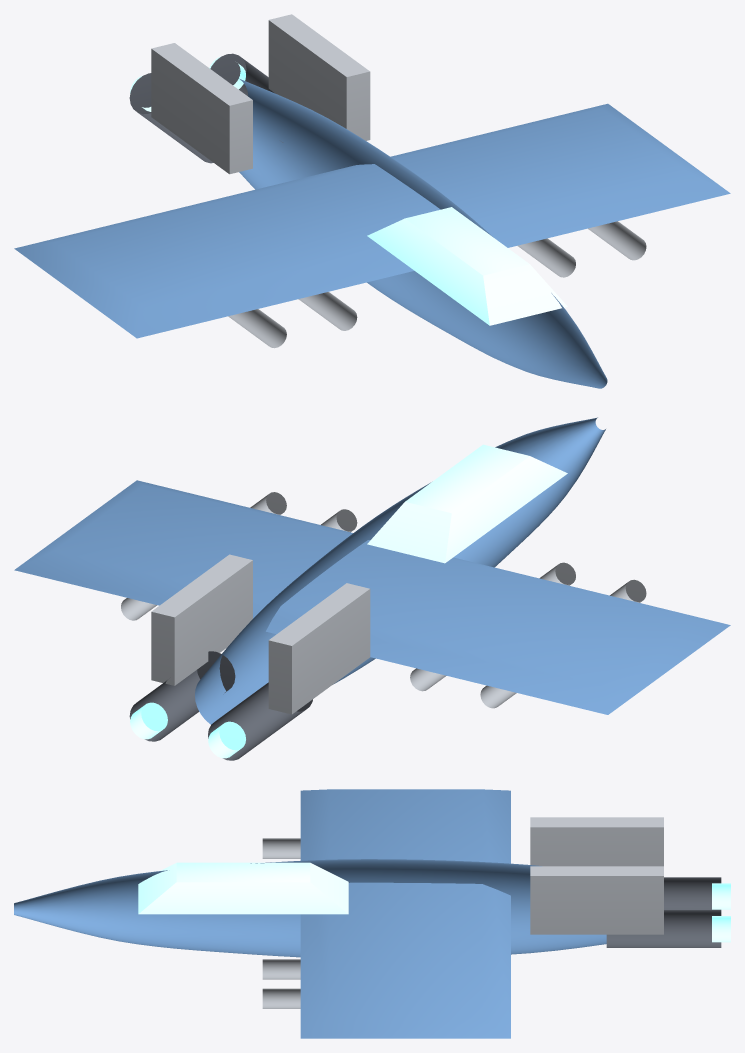
The model's file is orca.glb.
3 renders of one model, top to bottom at view 1: azimuth 30°, elevation 25°; view 2: azimuth 150°, elevation 25°; view 3: azimuth 270°, elevation 25°, orthographic. The views are drawn at different scales.
Parts seen in each view (by area): view 1: Hull; view 2: Hull; view 3: Hull.
Part boxes in pixels (x1,y1,x2,y2): Hull: (14,14,730,388); Hull: (14,417,730,760); Hull: (14,789,730,1038).
Bounding box in the file's own units: 3.19 × 0.646 × 3.9.
